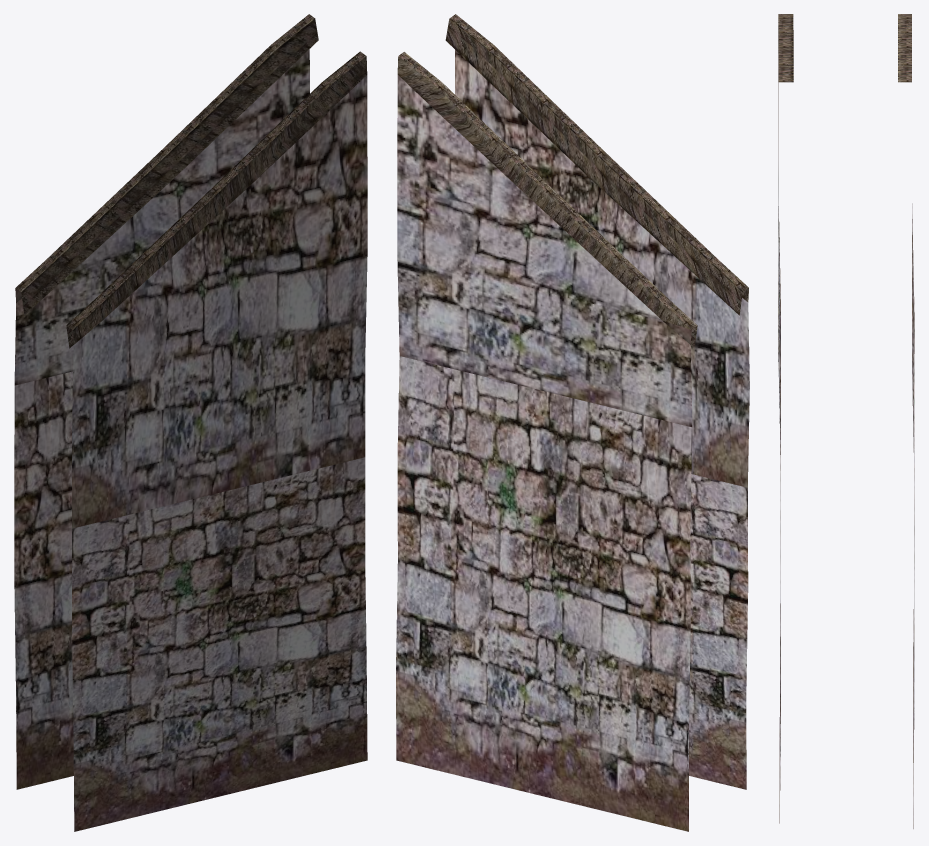
The picture shows the model from 3 angles, left to right: view 1: azimuth 30°, elevation 25°; view 2: azimuth 150°, elevation 25°; view 3: azimuth 270°, elevation 25°; orthographic projection. The views are drawn at different scales.
Visible parts, largest first — view 1: Shape49; view 2: Shape49; view 3: Shape49.
Boxes of the visible parts, left/top/right/bottom form: Shape49: left=14, top=14, right=367, bottom=831; Shape49: left=396, top=14, right=749, bottom=831; Shape49: left=778, top=14, right=914, bottom=828.
Size of the model in its own units: 308 by 697 by 105.
